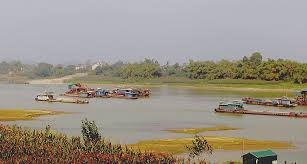tau_dansu: (217, 98, 307, 120), (36, 94, 86, 107), (115, 86, 147, 102)
